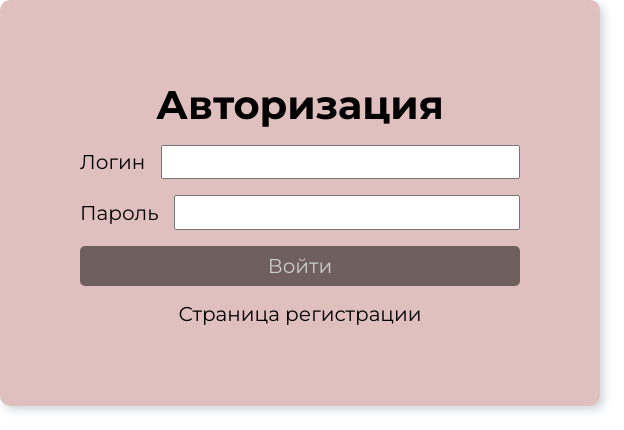
Test case: Login page › submit button should not be disabled if all the fields are correct
Type "Abcabc123" into the field with id "login". click: (341,162)
box: [161, 145, 520, 179]
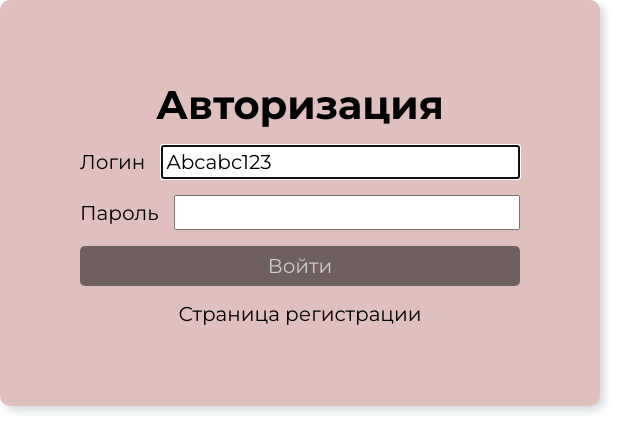
Type "Abcabc123" into the password field labelled "Пароль". click: (347,213)
box: [174, 195, 520, 230]
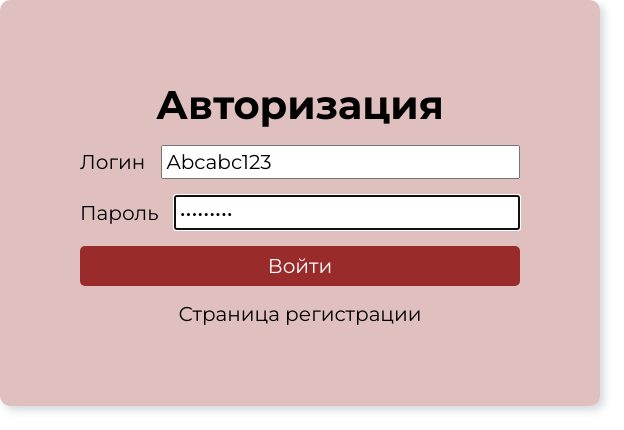
Expected: the button "Войти" is enabled, [80, 246, 520, 286]
